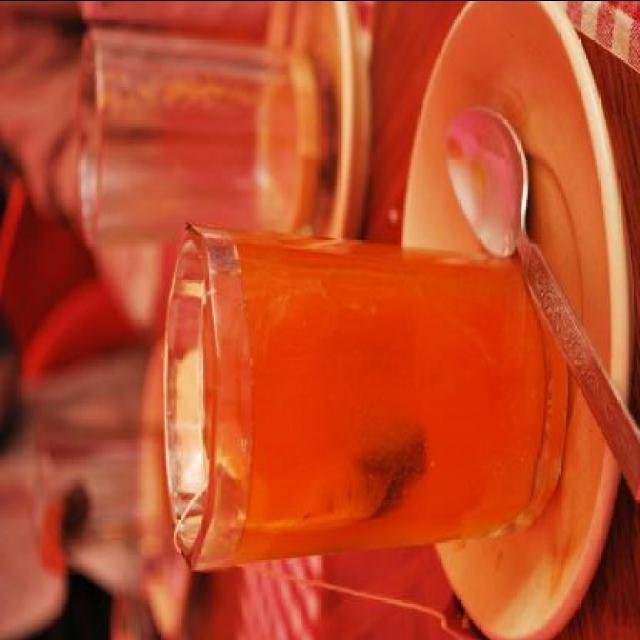Juice: (158, 196, 572, 584)
